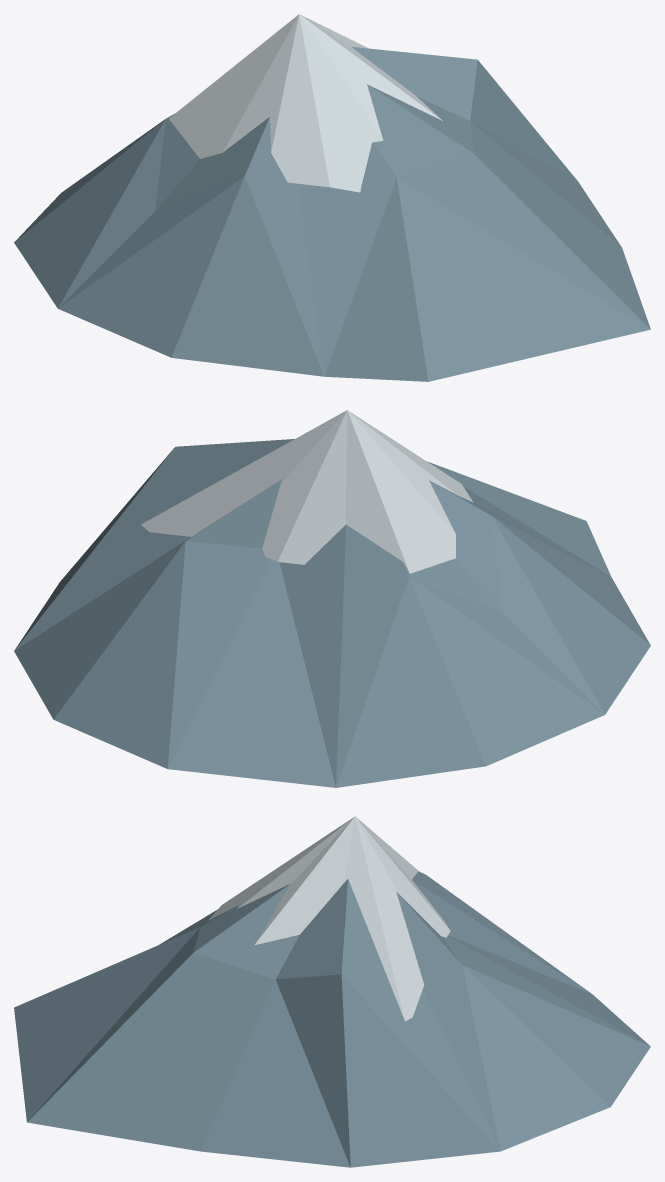
The picture shows the model from 3 angles, top to bottom: view 1: azimuth 30°, elevation 25°; view 2: azimuth 150°, elevation 25°; view 3: azimuth 270°, elevation 25°; orthographic projection. The views are drawn at different scales.
Parts seen in each view (by area): view 1: mesh_1104003827, mesh_1161604268; view 2: mesh_1104003827, mesh_1161604268; view 3: mesh_1104003827, mesh_1161604268.
Boxes of the visible parts, <box> form: mesh_1104003827: <box>14,47,650,381</box>; mesh_1161604268: <box>169,14,442,192</box>; mesh_1104003827: <box>14,439,650,787</box>; mesh_1161604268: <box>141,410,473,573</box>; mesh_1104003827: <box>14,871,650,1167</box>; mesh_1161604268: <box>208,816,450,1021</box>.
Size of the model in its own units: 63 by 28 by 70.
